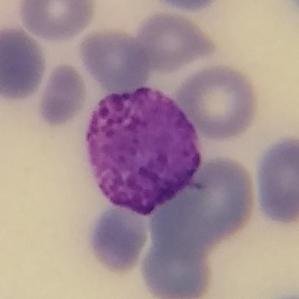Basophil: (75, 77, 210, 221)
RBC: (147, 153, 262, 257), (173, 61, 262, 141), (129, 9, 218, 72), (82, 198, 154, 275), (136, 234, 215, 299), (76, 27, 151, 91), (251, 132, 299, 228), (0, 25, 49, 103), (36, 61, 90, 128), (16, 0, 98, 42), (148, 0, 228, 14)
